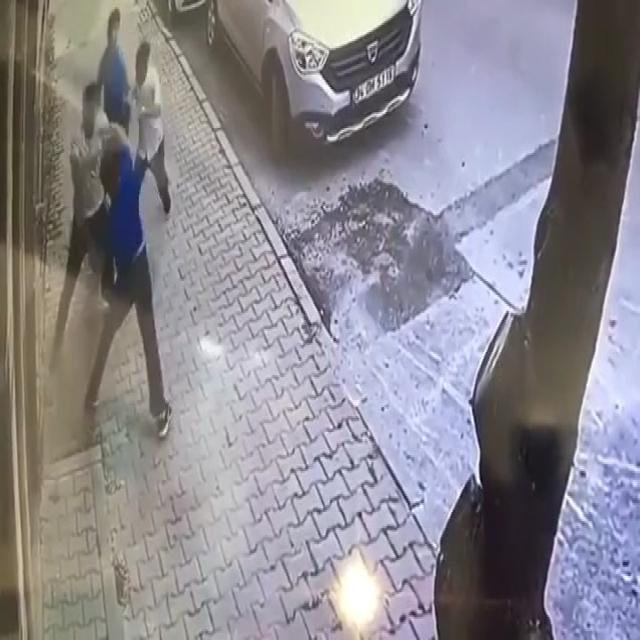fight: (62, 75, 178, 452), (98, 34, 166, 455)
